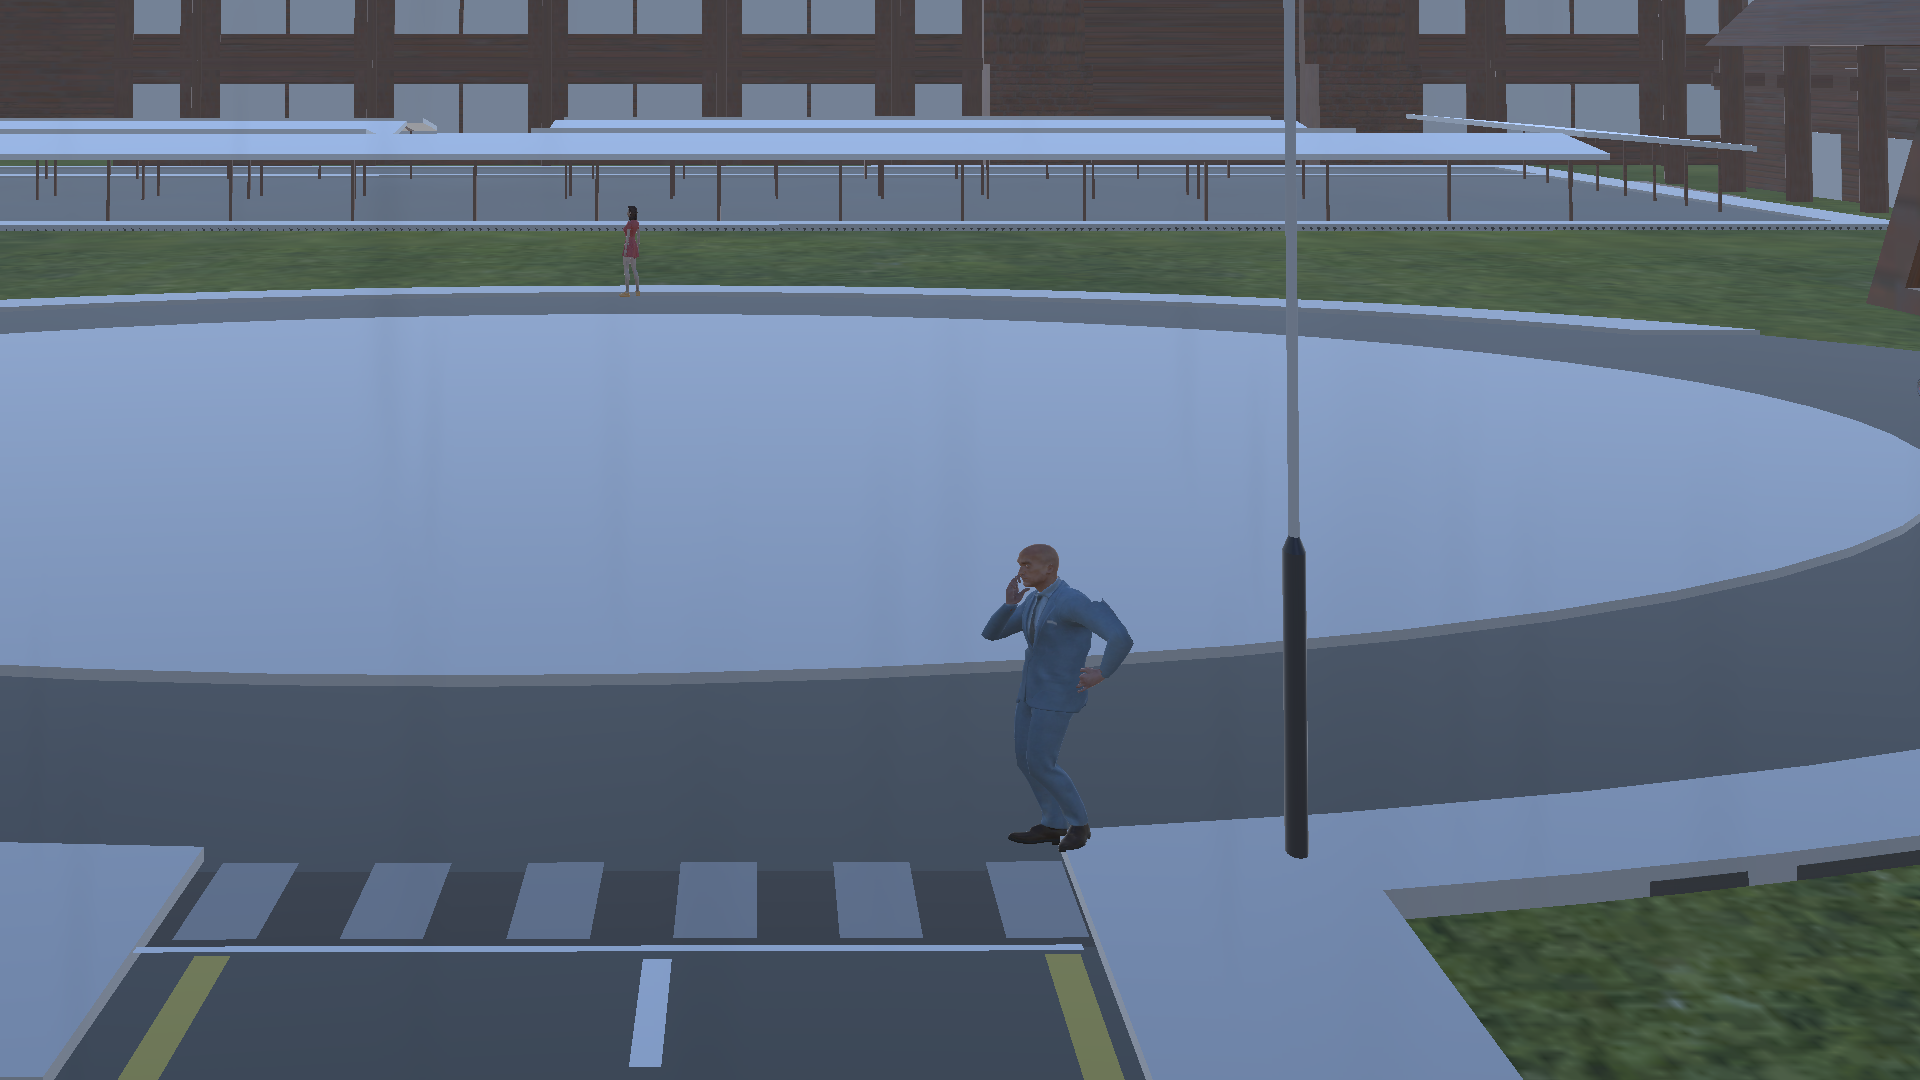pedestrian: (984, 537, 1136, 860), (616, 202, 654, 302)
